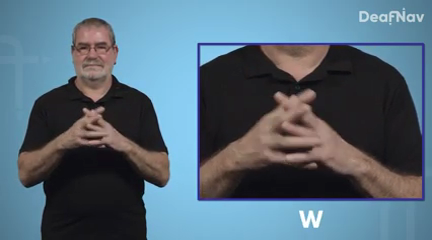W: (243, 88, 356, 179), (59, 100, 124, 155)
